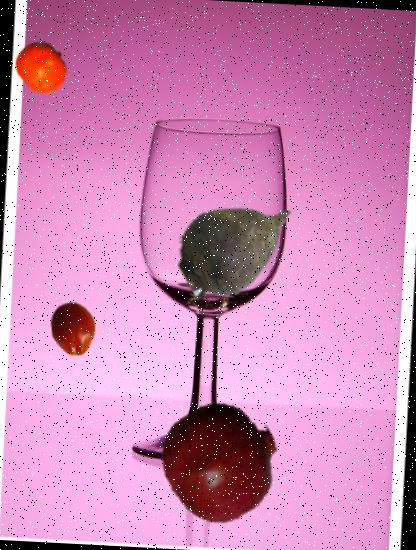Beetroot: (168, 172, 310, 314)
Clementine: (13, 39, 71, 96)
Pomegranate: (158, 398, 286, 525)
Tomato: (44, 300, 104, 358)
